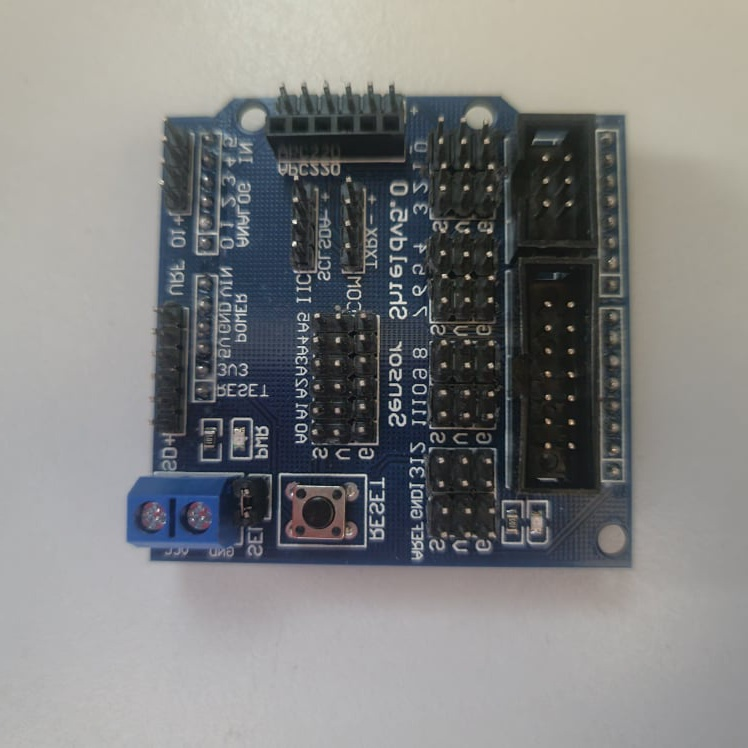5V EXPANSION: (124, 85, 632, 566)
